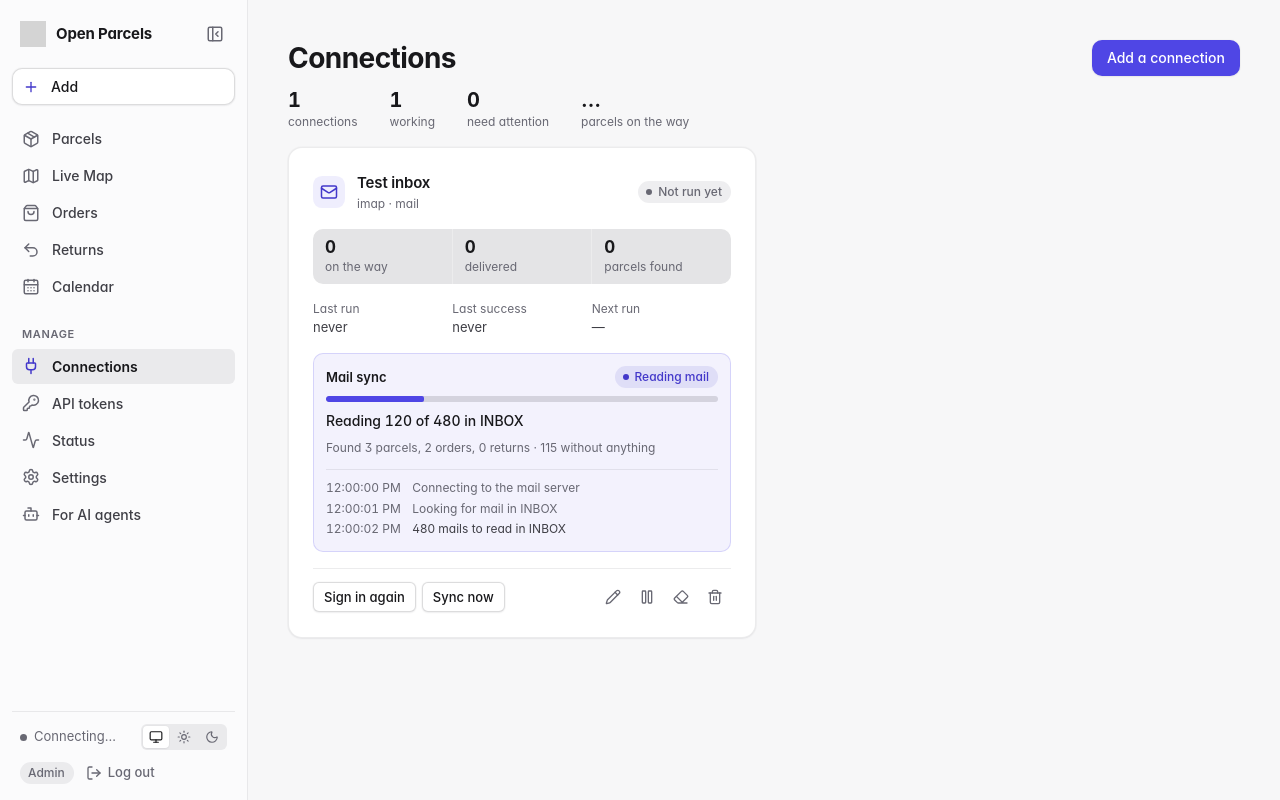
Scenario: an inbox's sync panel › shows a running sync live and folds a finished one after Sync now
Check: the text "Reading 120 of 480 in INBOX" is shown, box 326,412 -> 524,429
Check: the text "Found 3 parcels, 2 orders, 0 returns · 115 without anything" is shown, box 326,440 -> 656,455
Click the button "Sync now". click: (463, 597)
box: 422,582 -> 505,612
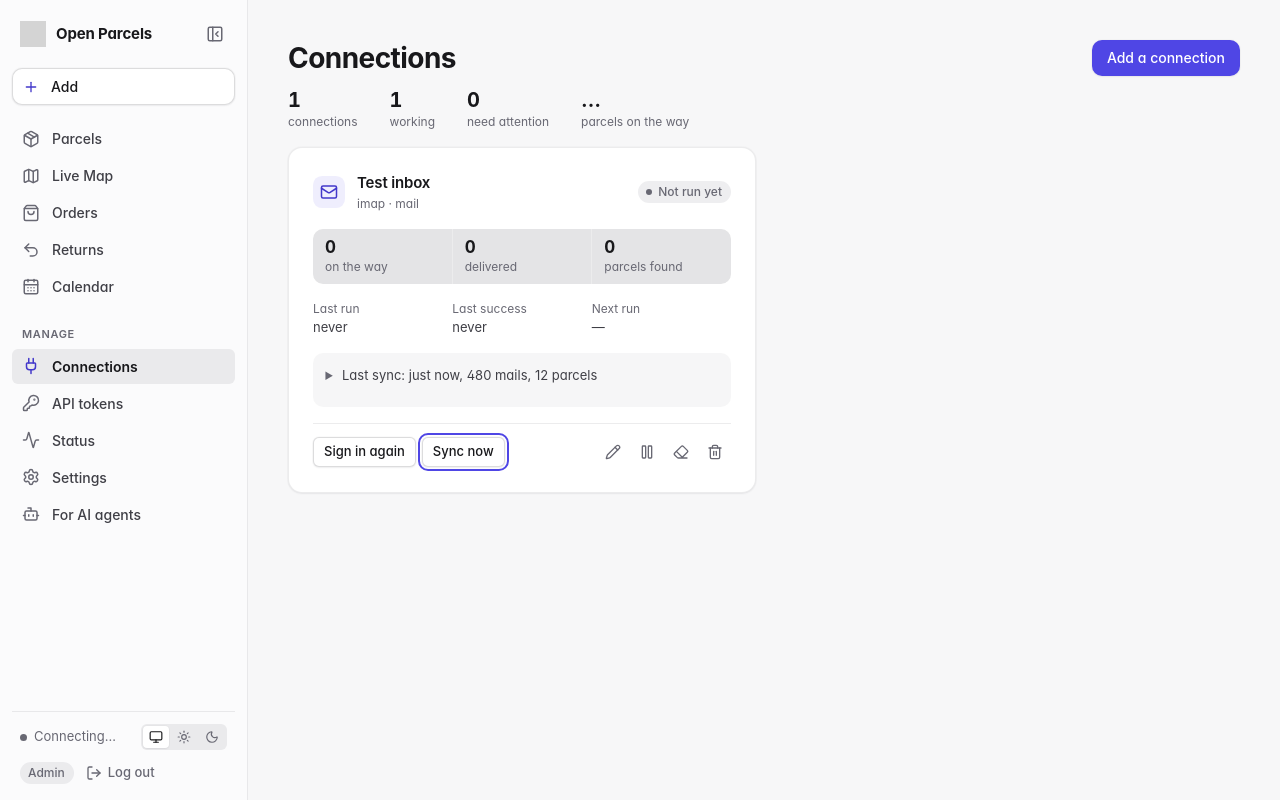
Check: the heading "Last sync: just now, 480 mails, 12 parcels" is shown, box 342,367 -> 597,383
Check: the progress indicator is gone
